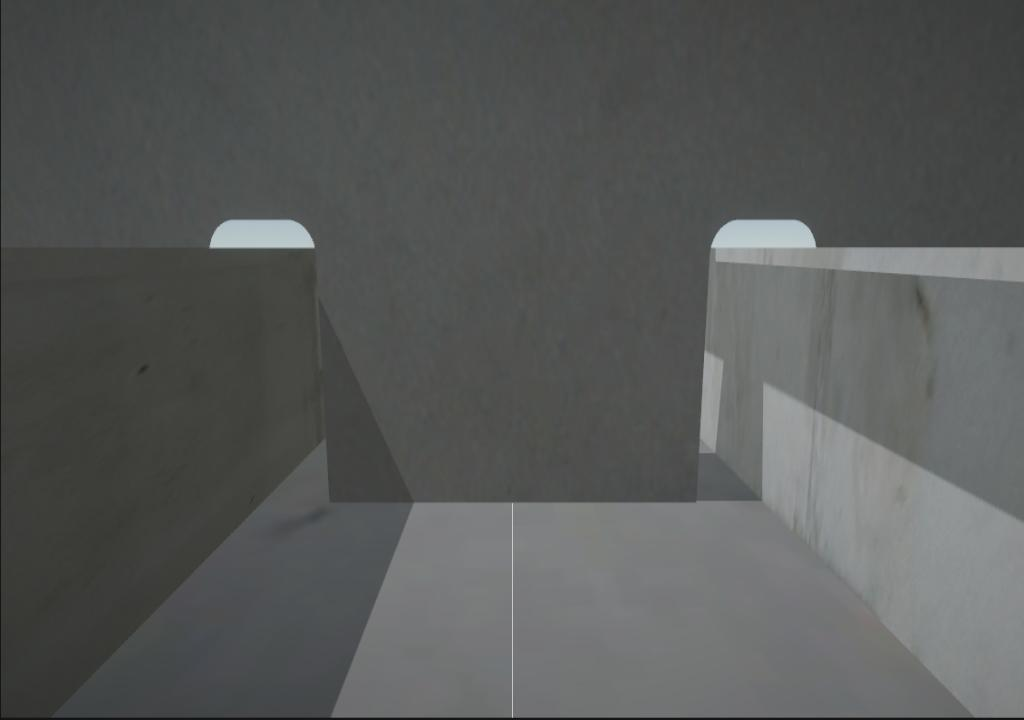fillet_yong_jeop_jang: (326, 482, 711, 513)
